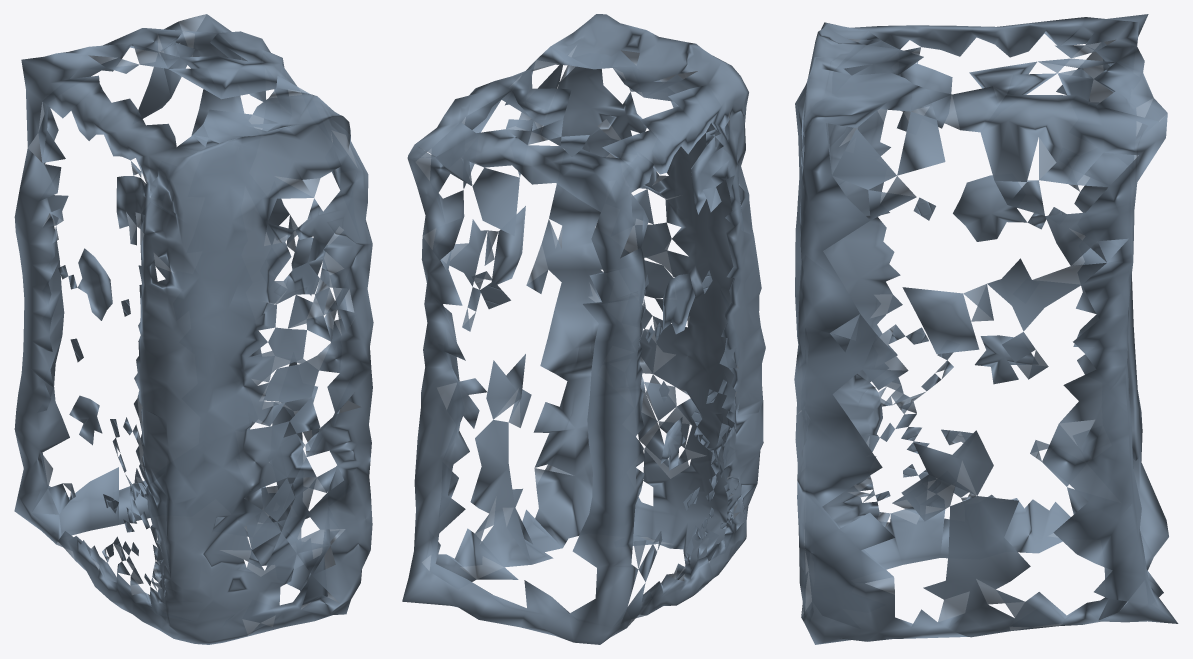
The model's file is dresser_0135_recon.obj.
3 views of the same model, side by side, from view 1: azimuth 30°, elevation 25°; view 2: azimuth 150°, elevation 25°; view 3: azimuth 270°, elevation 25° (orthographic). The views are drawn at different scales.
Size of the model in its own units: 0.6796 by 1.48 by 0.9221.
